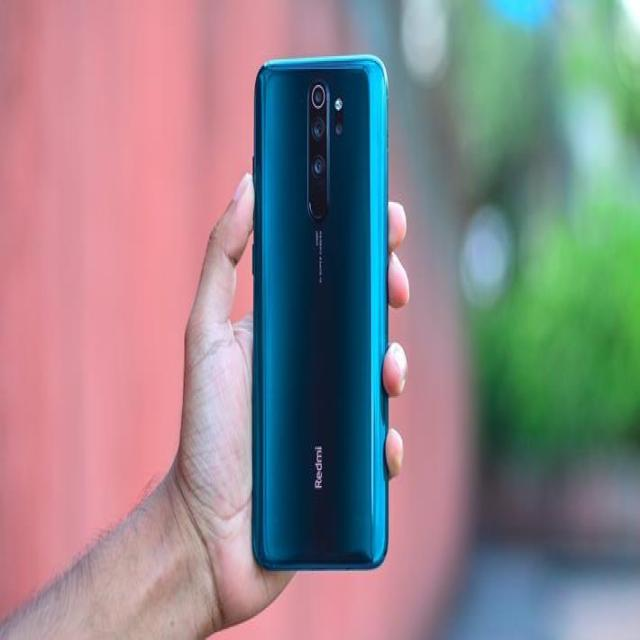Red Mi Note 8 Pro: (248, 55, 396, 576)
